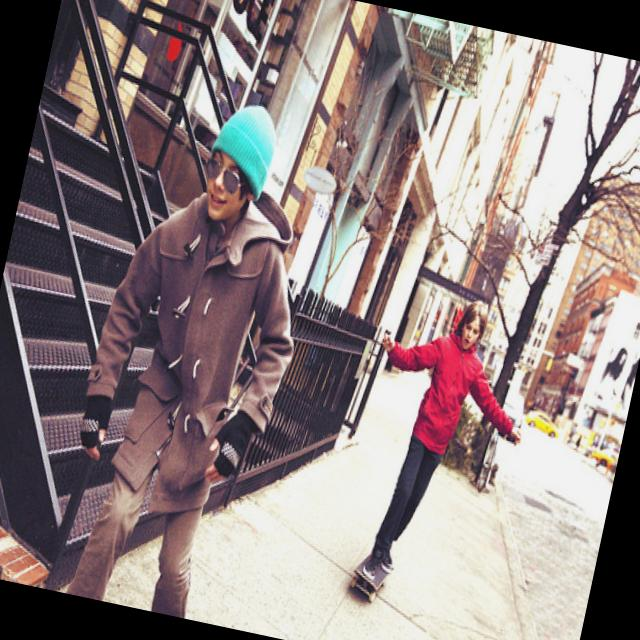Vehicle: (498, 388, 529, 430), (524, 408, 562, 438), (586, 445, 620, 476)
